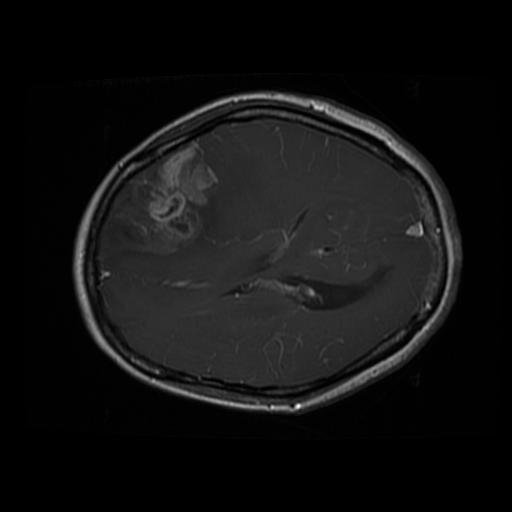glioma: (100, 141, 220, 255)
